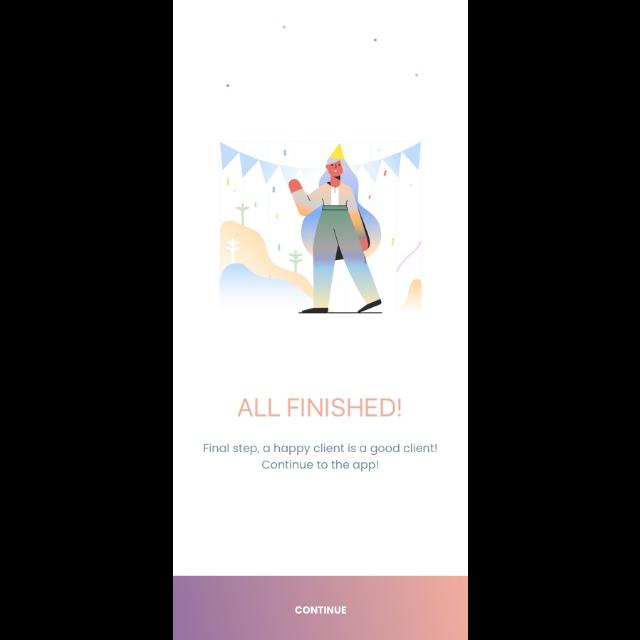image: (218, 142, 422, 314)
text: (203, 443, 437, 472), (236, 398, 402, 418)
textbutton: (172, 576, 468, 640)
